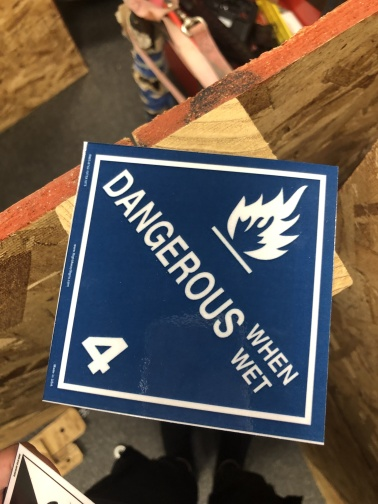DangerousWhenWet: (43, 141, 339, 445)
